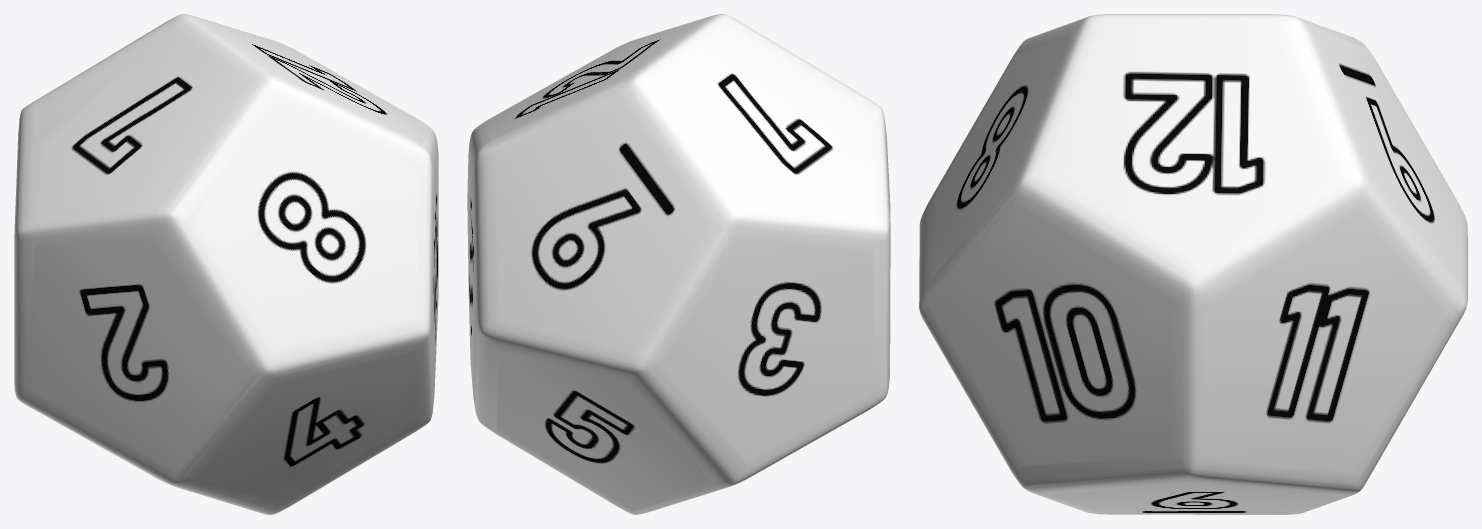
The picture shows the model from 3 angles, left to right: view 1: azimuth 30°, elevation 25°; view 2: azimuth 150°, elevation 25°; view 3: azimuth 270°, elevation 25°; orthographic projection. The views are drawn at different scales.
Visible parts, largest first — view 1: Solid.004; view 2: Solid.004; view 3: Solid.004.
Part boxes in pixels (x1=…): Solid.004: x1=14, y1=14, x2=438, y2=514; Solid.004: x1=467, y1=14, x2=890, y2=514; Solid.004: x1=919, y1=14, x2=1467, y2=514.
Bounding box in the file's own units: 1.72 × 1.72 × 1.72.
1 material, 1 textured.
